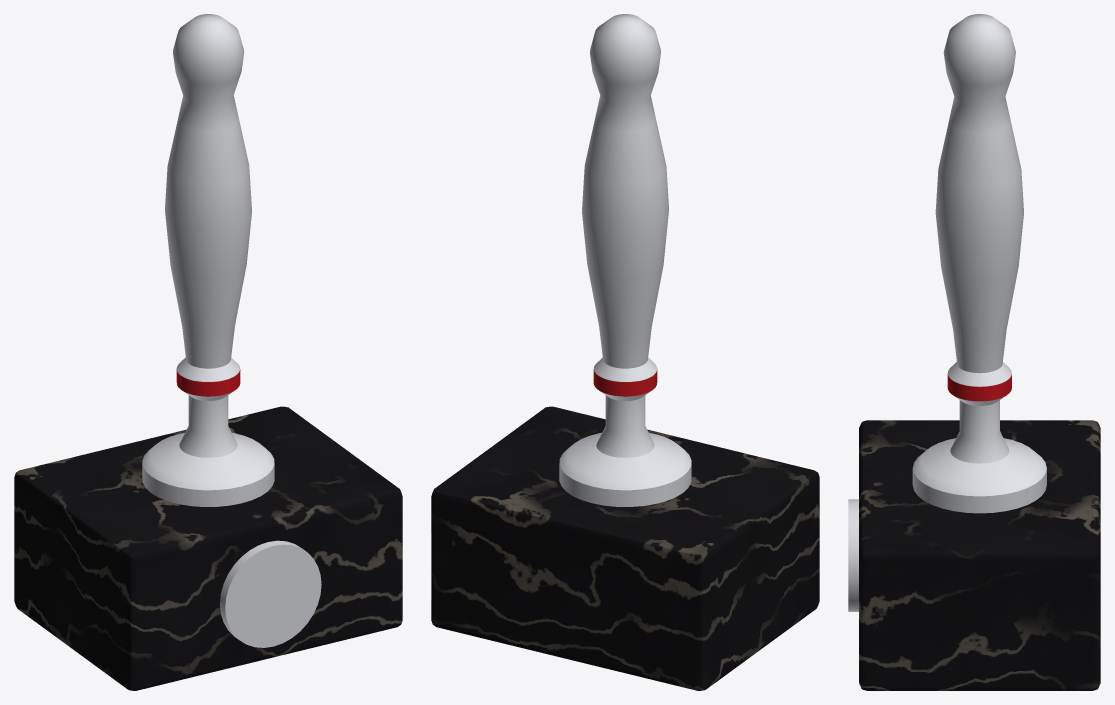
Rendered from SM_FS_Seal.glb.
3 renders of one model, left to right at view 1: azimuth 30°, elevation 25°; view 2: azimuth 150°, elevation 25°; view 3: azimuth 270°, elevation 25°, orthographic.
Parts seen in each view (by area): view 1: SM_FS_Seal; view 2: SM_FS_Seal; view 3: SM_FS_Seal.
Part boxes in pixels (x1=…): SM_FS_Seal: x1=14, y1=14, x2=402, y2=690; SM_FS_Seal: x1=431, y1=14, x2=819, y2=690; SM_FS_Seal: x1=848, y1=14, x2=1100, y2=690.
Size of the model in its own units: 0.12 by 0.25 by 0.094.
Materials: 1 (1 with a texture image).
